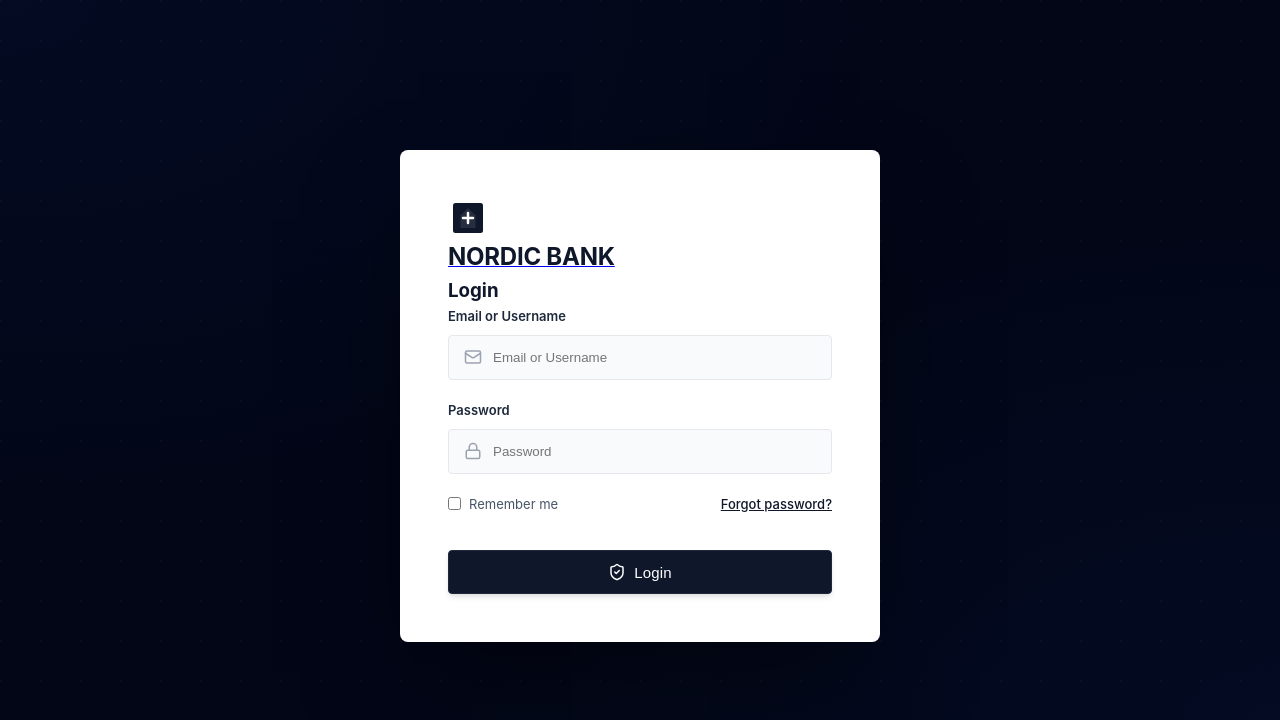
Test: LoginContent - Input Flexibility Tests › should display error message on failed login
# Submit invalid credentials
Type "wronguser" into the field with placeholder "Email or Username" at {"x": 640, "y": 357}, box [448,335,832,380]
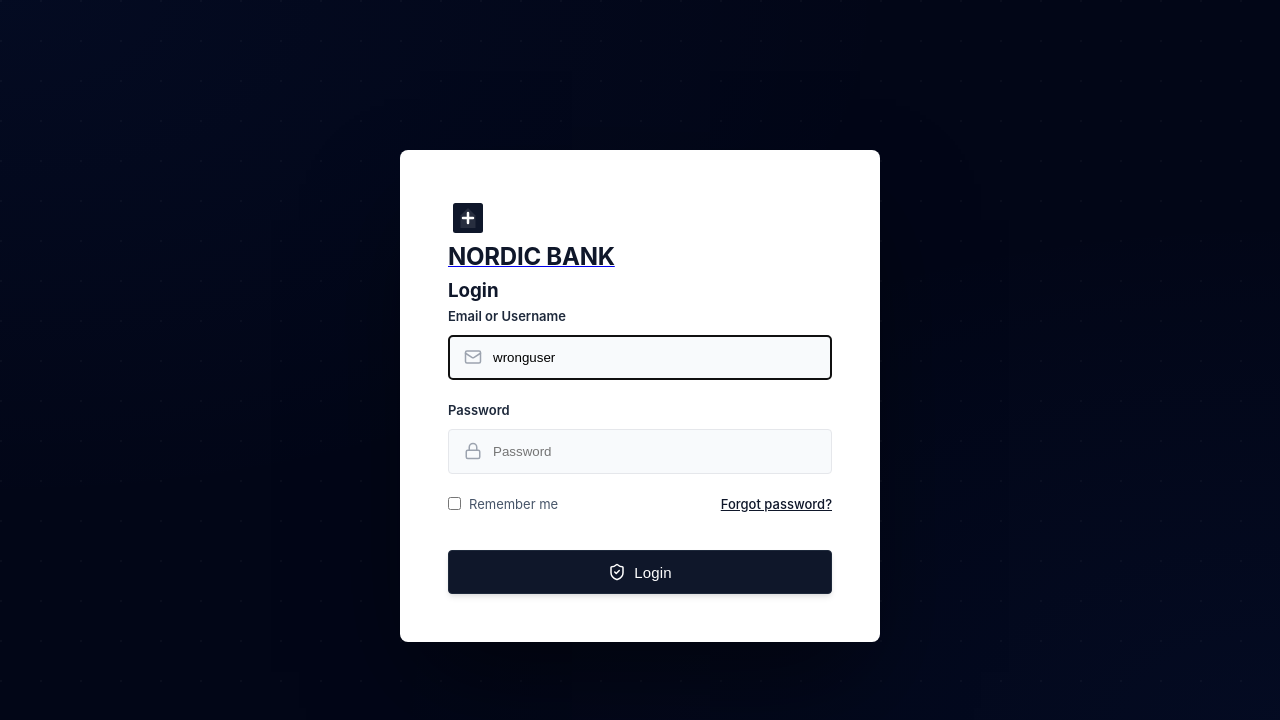
Type "wrongpass" into the password field with placeholder "Password" at {"x": 640, "y": 451}, box [448,429,832,474]
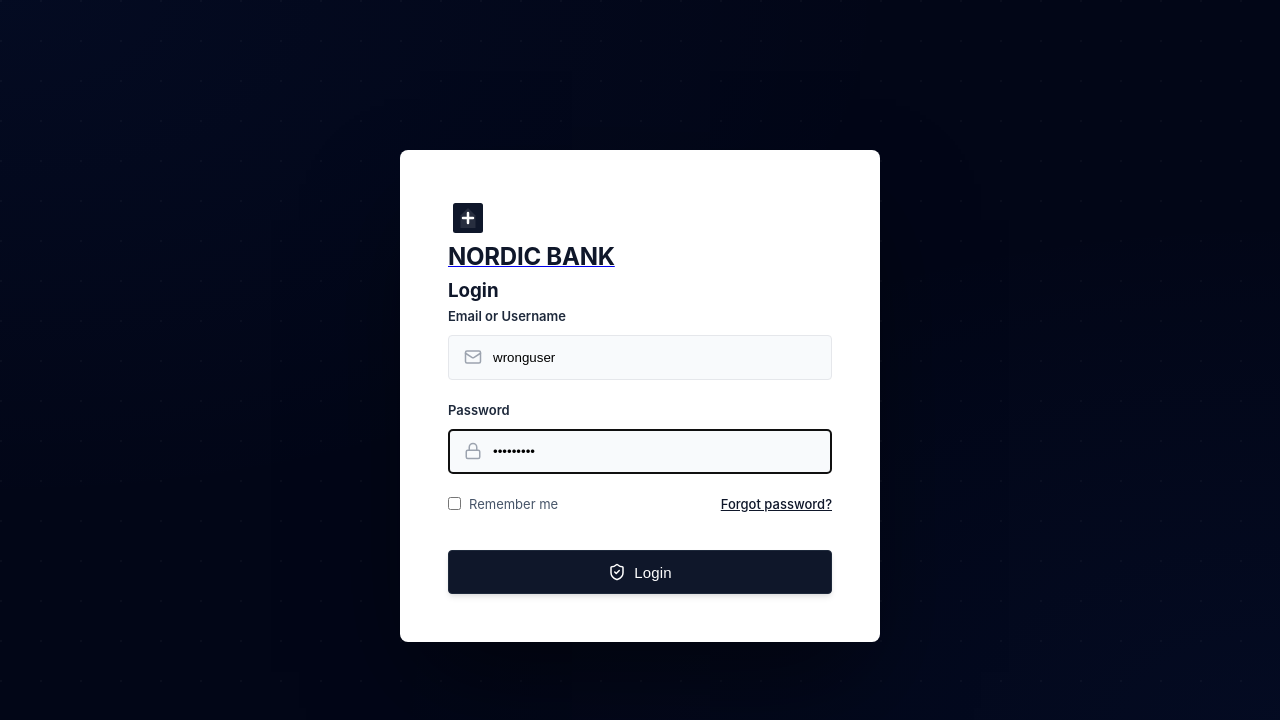
Click the button "Login" at {"x": 640, "y": 572}, box [448,550,832,594]
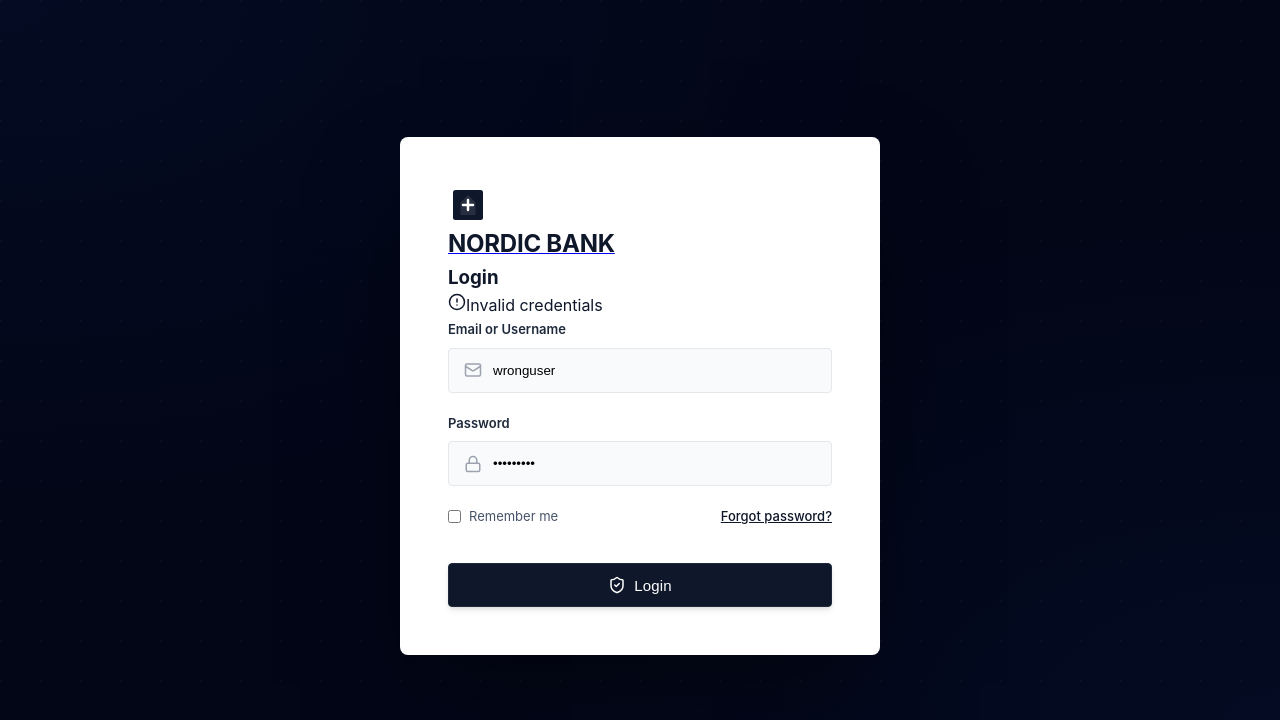
Result: the text "Invalid credentials" is shown at [466,295,603,315]
